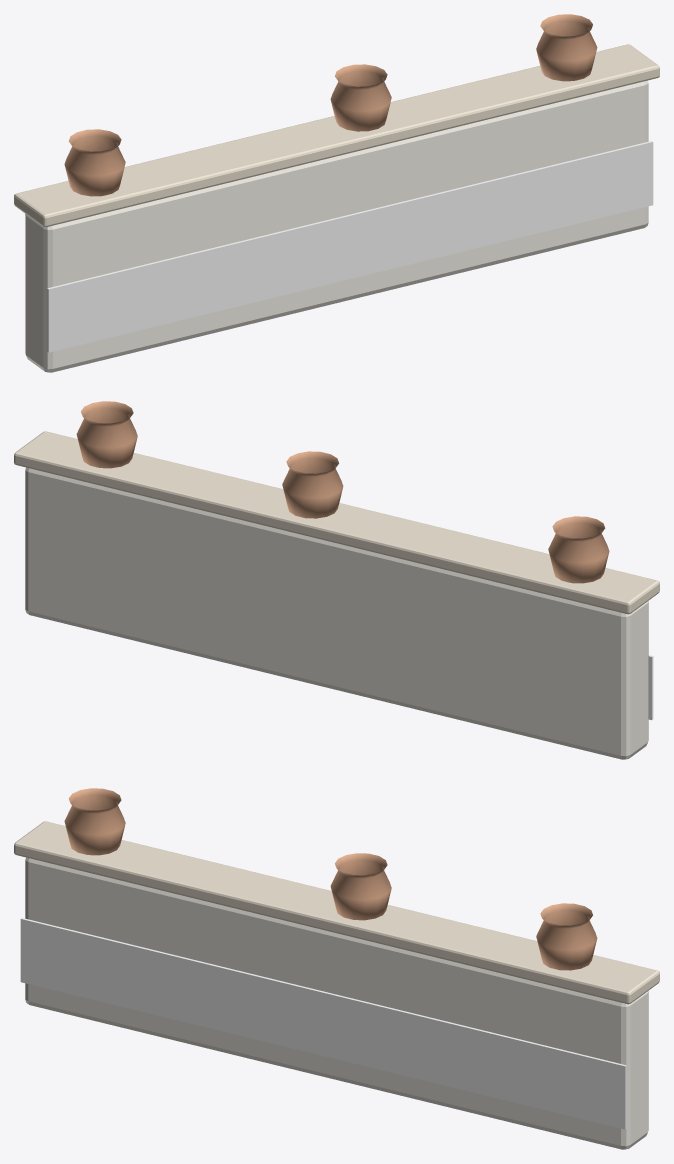
Rendered from vg_portugal_wall.glb.
3 views of the same model, one above another, from view 1: azimuth 30°, elevation 25°; view 2: azimuth 150°, elevation 25°; view 3: azimuth 330°, elevation 25° (orthographic).
Visible parts, largest first — view 1: vg_portugal_wall; view 2: vg_portugal_wall; view 3: vg_portugal_wall.
Part boxes in pixels (<box>): vg_portugal_wall: <box>14,14,659,372</box>; vg_portugal_wall: <box>14,401,659,759</box>; vg_portugal_wall: <box>14,788,659,1149</box>.
Bounding box in the file's own units: 5.1 × 1.68 × 0.45.
